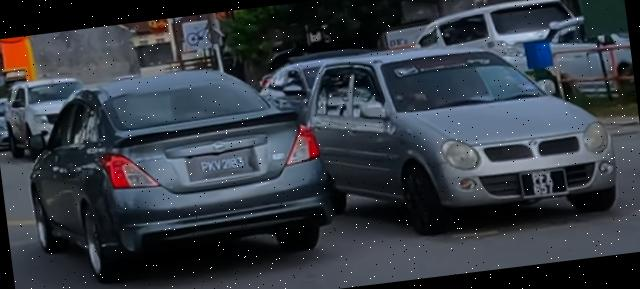License_Plate: (190, 151, 257, 178), (520, 168, 568, 198)
car: (263, 22, 623, 254), (19, 53, 342, 289)
